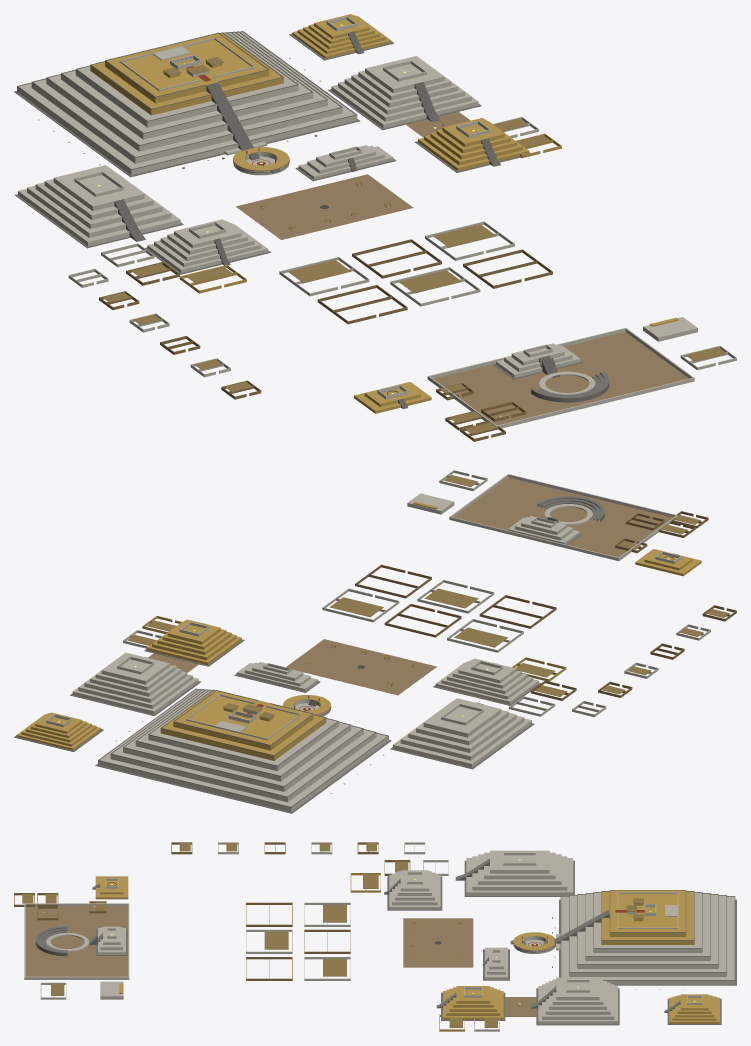
File: caral_rts_kit.fbx
The picture shows the model from 3 angles, top to bottom: view 1: azimuth 30°, elevation 25°; view 2: azimuth 150°, elevation 25°; view 3: azimuth 270°, elevation 25°; orthographic projection. The views are drawn at different scales.
Visible parts, largest first — view 1: GEO-Caral_PyramideMayor_LOD0, GEO-Caral_TemploAnfiteatro_LOD0, GEO-Caral_PiramideCentral_LOD0, GEO-Caral_PiramideGaleria_LOD0, GEO-Caral_PlazaCentral_LOD0, GEO-Caral_PiramideCantera_LOD0, GEO-Caral_PiramideHuanca_LOD0, GEO-Caral_PiramideMenor_LOD0, GEO-Caral_EdificiosE2E3_LOD0, GEO-Caral_PlazaMayor_LOD0, GEO-Caral_AltarCircular_LOD0, GEO-Caral_ResidencialMayor_22_LOD0 (+8 smaller); view 2: GEO-Caral_PyramideMayor_LOD0, GEO-Caral_TemploAnfiteatro_LOD0, GEO-Caral_PiramideCentral_LOD0, GEO-Caral_PiramideGaleria_LOD0, GEO-Caral_PlazaCentral_LOD0, GEO-Caral_PiramideCantera_LOD0, GEO-Caral_PiramideHuanca_LOD0, GEO-Caral_PiramideMenor_LOD0, GEO-Caral_EdificiosE2E3_LOD0, GEO-Caral_ResidencialMayor_31_LOD0, GEO-Caral_ResidencialMayor_11_LOD0, GEO-Caral_ResidencialMayor_22_LOD0 (+7 smaller); view 3: GEO-Caral_PyramideMayor_LOD0, GEO-Caral_TemploAnfiteatro_LOD0, GEO-Caral_PiramideCentral_LOD0, GEO-Caral_PiramideGaleria_LOD0, GEO-Caral_PlazaCentral_LOD0, GEO-Caral_PiramideCantera_LOD0, GEO-Caral_PiramideHuanca_LOD0, GEO-Caral_PiramideMenor_LOD0, GEO-Caral_EdificiosE2E3_LOD0, GEO-Caral_PlazaMayor_LOD0, GEO-Caral_AltarCircular_LOD0, GEO-Caral_ResidencialMayor_22_LOD0 (+9 smaller).
Boxes of the visible parts, box(x1,y1,x2,y2) form: GEO-Caral_PyramideMayor_LOD0: box(14, 31, 359, 177); GEO-Caral_TemploAnfiteatro_LOD0: box(427, 328, 694, 428); GEO-Caral_PiramideCentral_LOD0: box(15, 165, 183, 248); GEO-Caral_PiramideGaleria_LOD0: box(328, 56, 481, 130); GEO-Caral_PlazaCentral_LOD0: box(236, 174, 413, 239); GEO-Caral_PiramideCantera_LOD0: box(144, 219, 270, 274); GEO-Caral_PiramideHuanca_LOD0: box(415, 118, 530, 172); GEO-Caral_PiramideMenor_LOD0: box(289, 14, 394, 60); GEO-Caral_EdificiosE2E3_LOD0: box(295, 145, 396, 181); GEO-Caral_PlazaMayor_LOD0: box(224, 141, 289, 175); GEO-Caral_AltarCircular_LOD0: box(354, 382, 431, 413); GEO-Caral_ResidencialMayor_22_LOD0: box(390, 267, 480, 306); GEO-Caral_PyramideMayor_LOD0: box(95, 688, 391, 813); GEO-Caral_TemploAnfiteatro_LOD0: box(449, 474, 677, 560); GEO-Caral_PiramideCentral_LOD0: box(390, 698, 534, 769); GEO-Caral_PiramideGaleria_LOD0: box(70, 652, 200, 715); GEO-Caral_PlazaCentral_LOD0: box(286, 639, 436, 695); GEO-Caral_PiramideCantera_LOD0: box(433, 658, 540, 705); GEO-Caral_PiramideHuanca_LOD0: box(144, 619, 244, 666); GEO-Caral_PiramideMenor_LOD0: box(14, 712, 103, 751); GEO-Caral_EdificiosE2E3_LOD0: box(234, 662, 320, 692); GEO-Caral_ResidencialMayor_31_LOD0: box(322, 588, 399, 622); GEO-Caral_ResidencialMayor_11_LOD0: box(447, 619, 523, 652); GEO-Caral_ResidencialMayor_22_LOD0: box(417, 580, 494, 613); GEO-Caral_PyramideMayor_LOD0: box(554, 890, 736, 985); GEO-Caral_TemploAnfiteatro_LOD0: box(24, 903, 129, 979); GEO-Caral_PiramideCentral_LOD0: box(455, 850, 574, 896); GEO-Caral_PiramideGaleria_LOD0: box(530, 977, 619, 1025); GEO-Caral_PlazaCentral_LOD0: box(403, 918, 473, 967); GEO-Caral_PiramideCantera_LOD0: box(384, 870, 442, 910); GEO-Caral_PiramideHuanca_LOD0: box(436, 986, 505, 1020); GEO-Caral_PiramideMenor_LOD0: box(664, 994, 721, 1024); GEO-Caral_EdificiosE2E3_LOD0: box(482, 947, 509, 980); GEO-Caral_PlazaMayor_LOD0: box(510, 932, 560, 953); GEO-Caral_AltarCircular_LOD0: box(92, 876, 128, 899); GEO-Caral_ResidencialMayor_22_LOD0: box(246, 929, 292, 953).
Bounding box in the file's own units: 380 × 35.18 × 620.
